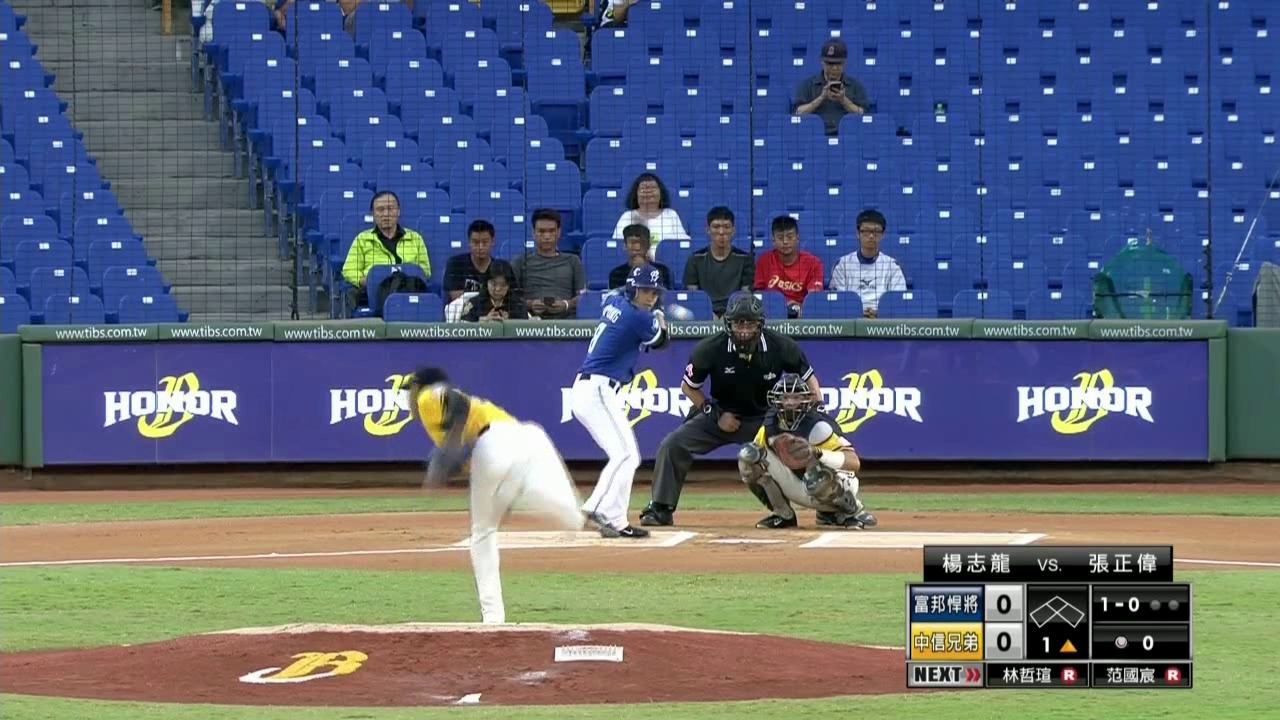ball: (670, 301, 693, 322)
base: (1029, 594, 1086, 630)
bat: (627, 210, 653, 265)
out: (1148, 597, 1181, 612)
score1: (984, 585, 1022, 620)
score2: (985, 623, 1022, 657)
session: (1040, 635, 1080, 653)
strikeball: (1098, 593, 1141, 613)
total: (1111, 631, 1159, 653)
